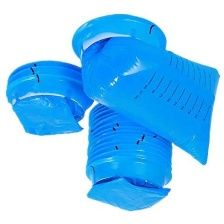plastic_bag: (74, 35, 223, 169), (8, 94, 85, 146), (75, 175, 173, 213)
